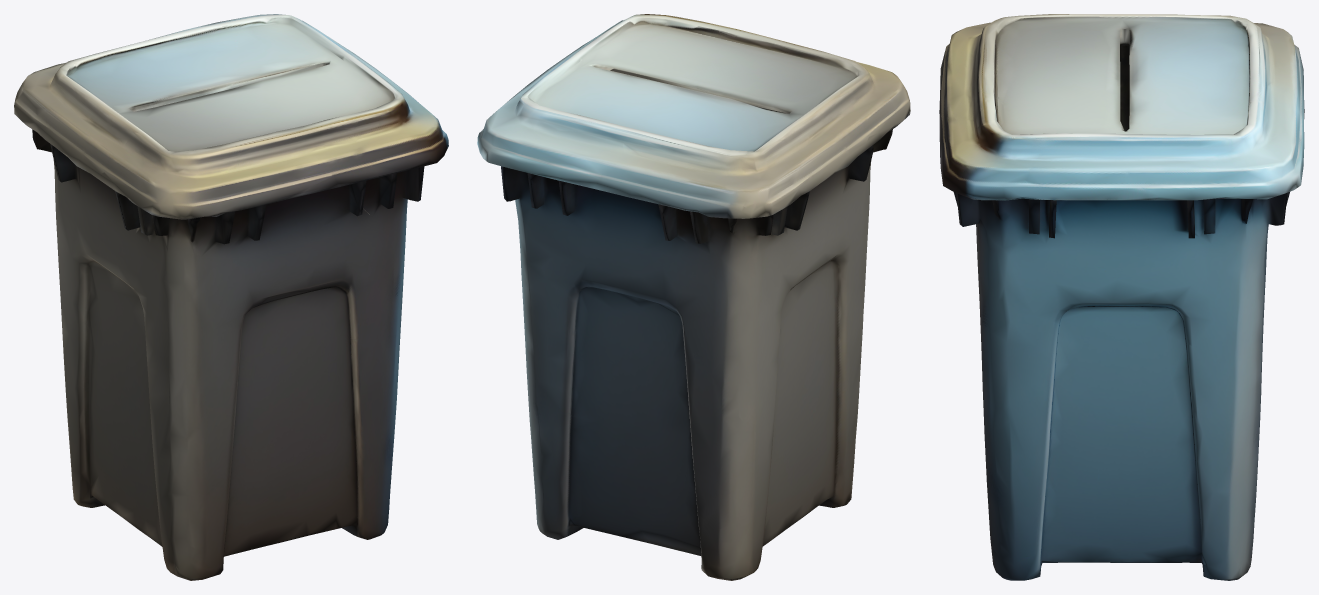
Rendered from prop_trash_bin_tripo_20261113.glb.
3 renders of one model, left to right at view 1: azimuth 30°, elevation 25°; view 2: azimuth 150°, elevation 25°; view 3: azimuth 270°, elevation 25°, orthographic. The views are drawn at different scales.
Visible parts, largest first — view 1: tripo_node_e6f71d49-bf71-4e18-a540-27c65e7a3f80; view 2: tripo_node_e6f71d49-bf71-4e18-a540-27c65e7a3f80; view 3: tripo_node_e6f71d49-bf71-4e18-a540-27c65e7a3f80.
Boxes of the visible parts, <box> form: tripo_node_e6f71d49-bf71-4e18-a540-27c65e7a3f80: <box>14,14,448,580</box>; tripo_node_e6f71d49-bf71-4e18-a540-27c65e7a3f80: <box>477,14,910,580</box>; tripo_node_e6f71d49-bf71-4e18-a540-27c65e7a3f80: <box>939,14,1304,580</box>.
Size of the model in its own units: 0.7372 by 1 by 0.7256.
1 material, 1 textured.
